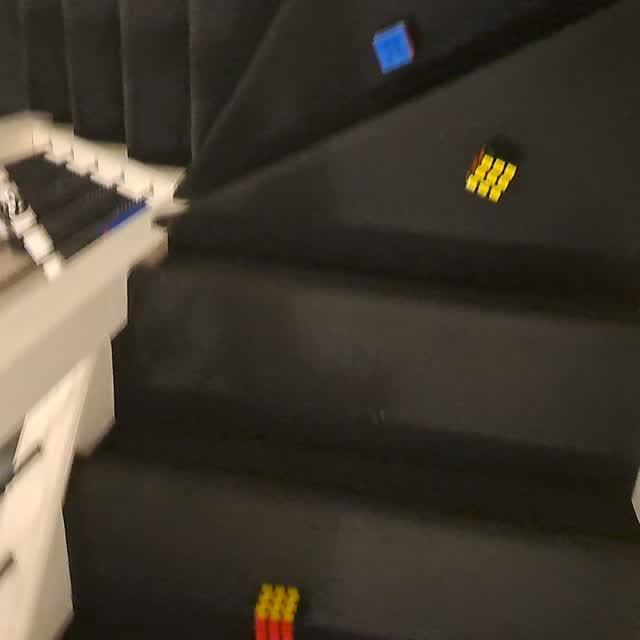rubix_cube: (460, 142, 520, 211), (250, 580, 305, 640), (369, 18, 420, 80)
